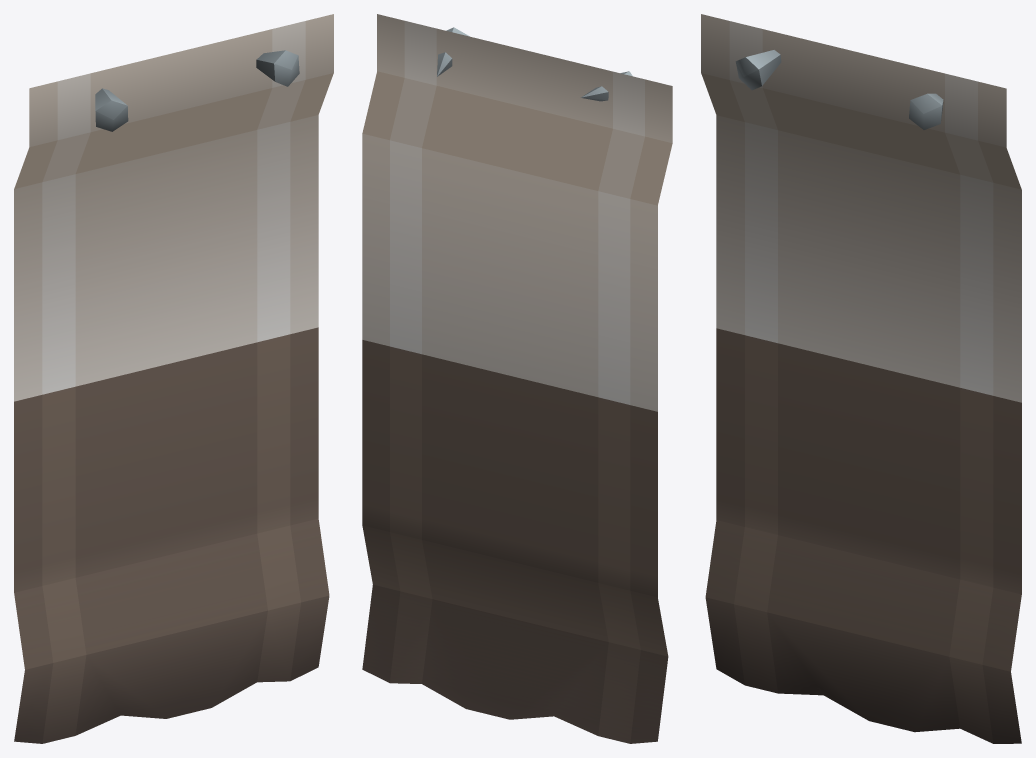
Rendered from banner_patternB_white.gltf.
The picture shows the model from 3 angles, left to right: view 1: azimuth 30°, elevation 25°; view 2: azimuth 150°, elevation 25°; view 3: azimuth 330°, elevation 25°; orthographic projection. The views are drawn at different scales.
Visible parts, largest first — view 1: banner_patternB_white; view 2: banner_patternB_white; view 3: banner_patternB_white.
Part boxes in pixels (x1=…): banner_patternB_white: x1=14, y1=14, x2=333, y2=743; banner_patternB_white: x1=362, y1=14, x2=672, y2=743; banner_patternB_white: x1=701, y1=14, x2=1021, y2=743.
Size of the model in its own units: 1.5 by 3.2 by 0.3119.
Materials: 1 (1 with a texture image).
